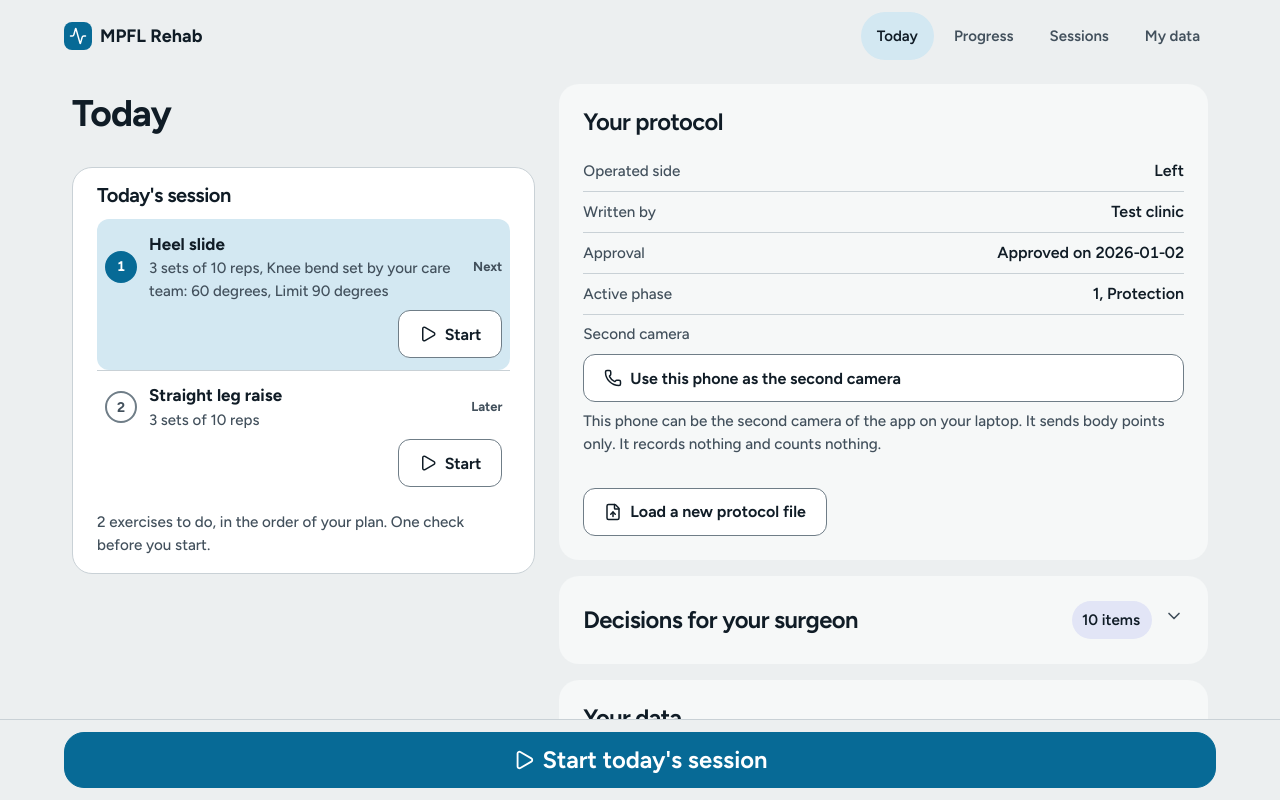
Test: My data › shows no way to the care team view in patient mode
This screenshot has width=1280, height=800.
Step 1. Click the button "My data" → click(1172, 36), box [1129,12,1216,60]
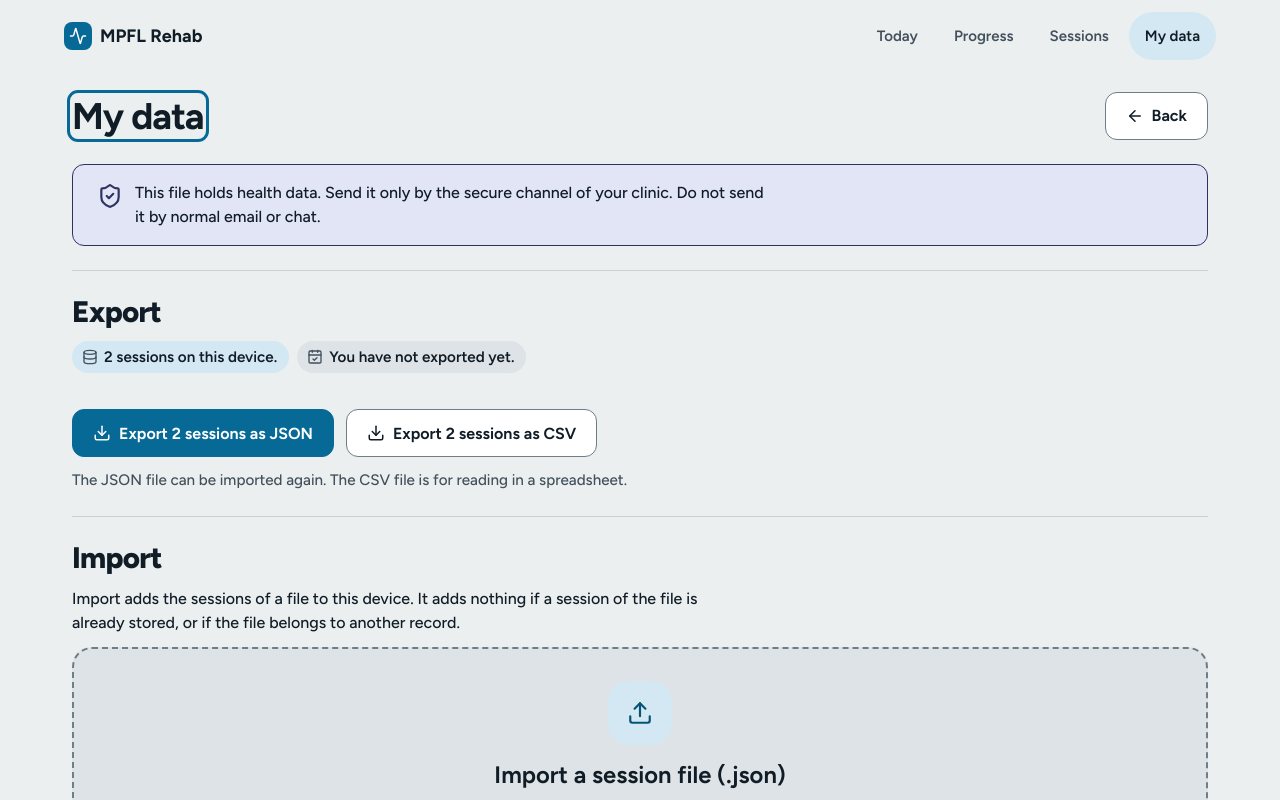
Result: the text "care team" is gone
